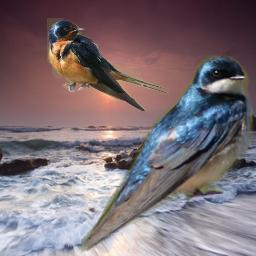Swallow: (81, 51, 255, 255), (47, 18, 169, 111)
